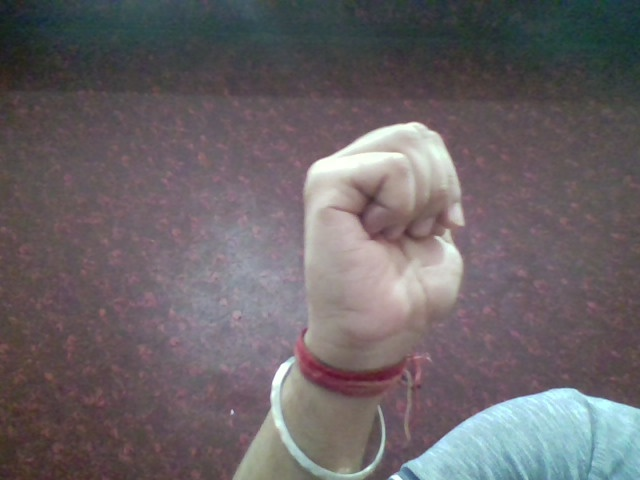m: (287, 117, 484, 343)
